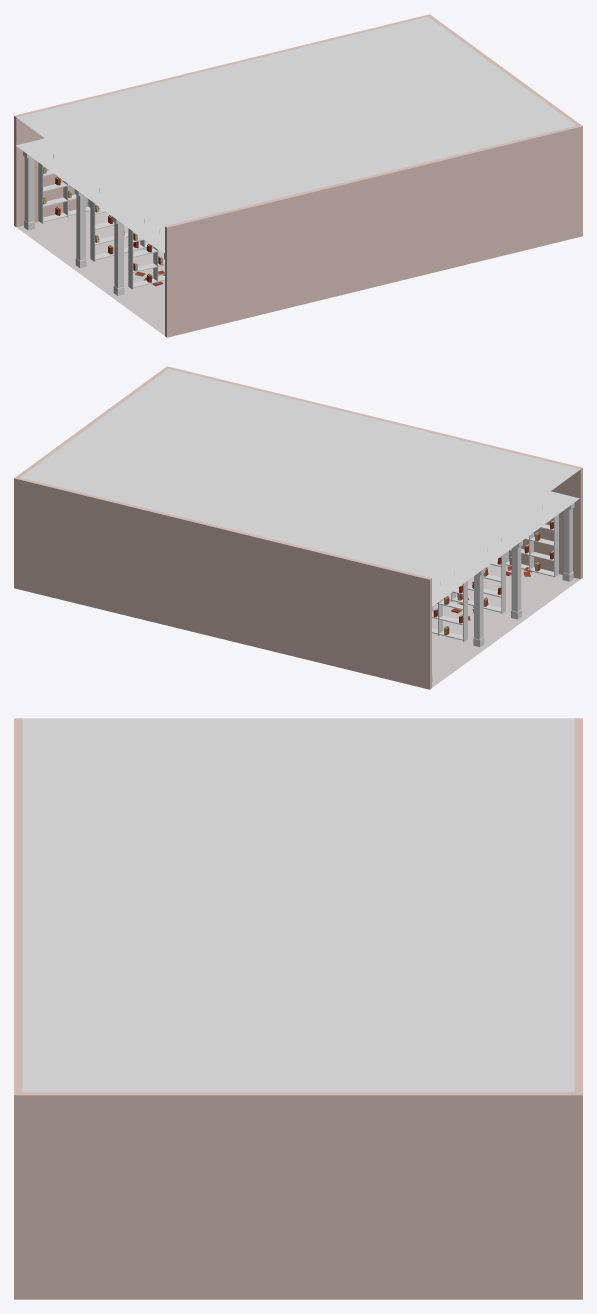
File: warehouse.fbx
3 views of the same model, one above another, from view 1: azimuth 30°, elevation 25°; view 2: azimuth 150°, elevation 25°; view 3: azimuth 270°, elevation 25° (orthographic). The views are drawn at different scales.
Visible parts, largest first — view 1: Ceiling, Room, Floor, Second roof, Shelves, Column, Book; view 2: Ceiling, Room, Floor, Second roof, Shelves, Column, Book; view 3: Ceiling, Room.
Part boxes in pixels (x1=…): Ceiling: x1=16, y1=17, x2=576, y2=225; Room: x1=14, y1=14, x2=582, y2=337; Floor: x1=16, y1=211, x2=164, y2=335; Second roof: x1=16, y1=138, x2=164, y2=253; Shelves: x1=38, y1=162, x2=164, y2=289; Column: x1=24, y1=157, x2=124, y2=295; Book: x1=43, y1=166, x2=163, y2=282; Ceiling: x1=20, y1=369, x2=580, y2=577; Room: x1=14, y1=366, x2=582, y2=689; Floor: x1=432, y1=564, x2=580, y2=687; Second roof: x1=432, y1=491, x2=579, y2=606; Shelves: x1=432, y1=514, x2=558, y2=641; Column: x1=432, y1=508, x2=573, y2=682; Book: x1=433, y1=520, x2=553, y2=635; Ceiling: x1=22, y1=718, x2=574, y2=1091; Room: x1=14, y1=718, x2=582, y2=1299.
Size of the model in its own units: 1617 by 414 by 1030.
